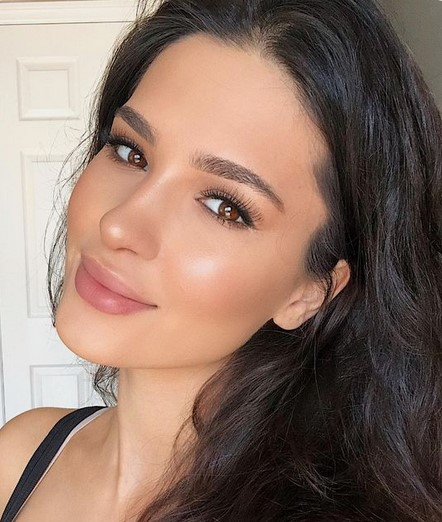face_no_mask: (48, 9, 379, 371)
